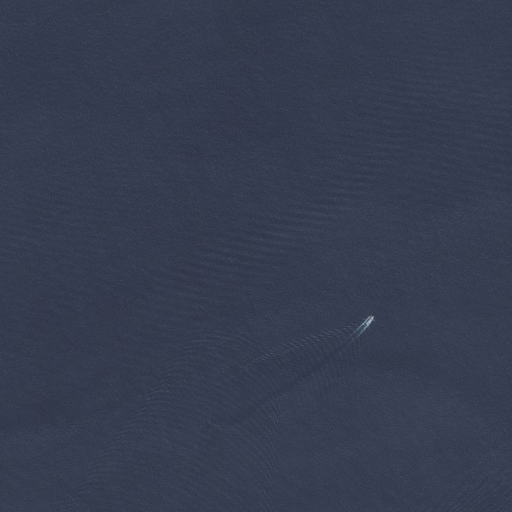ship: (360, 313, 375, 328)
